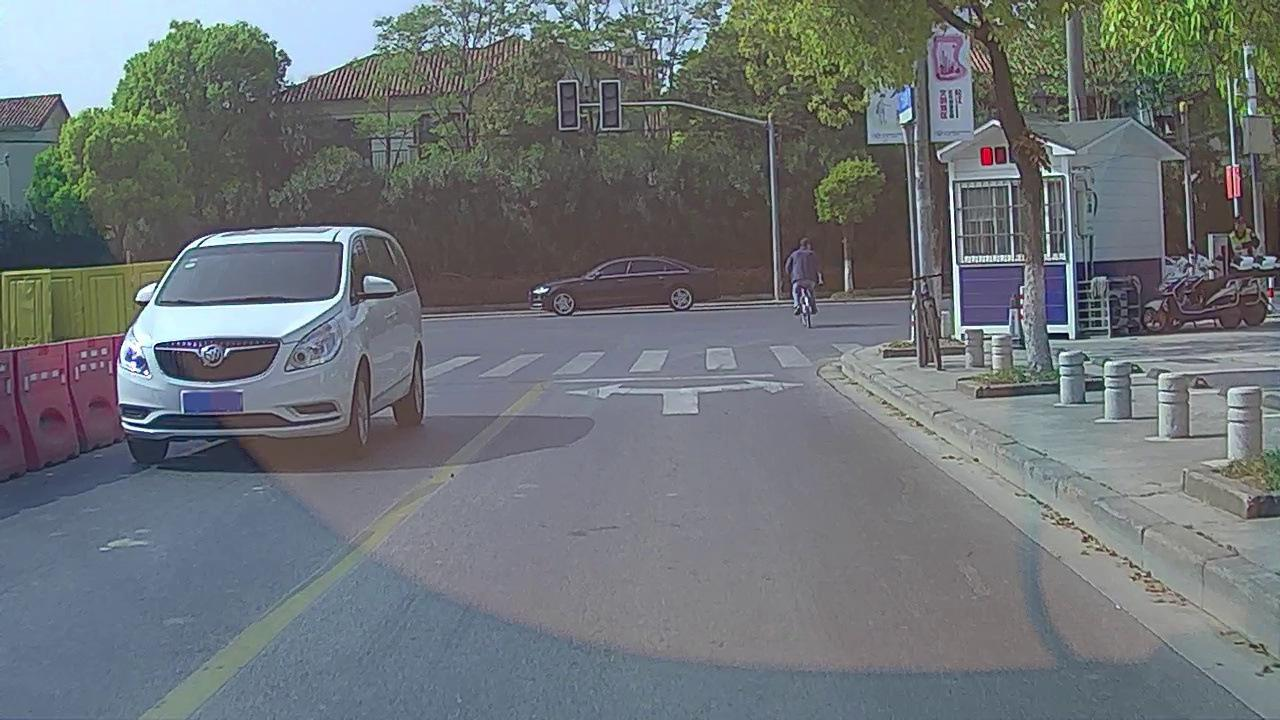traffic_light: (601, 80, 621, 127), (560, 81, 577, 127)
